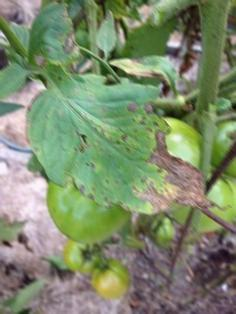Tomato leaf bacterial spot: (24, 72, 227, 211)
